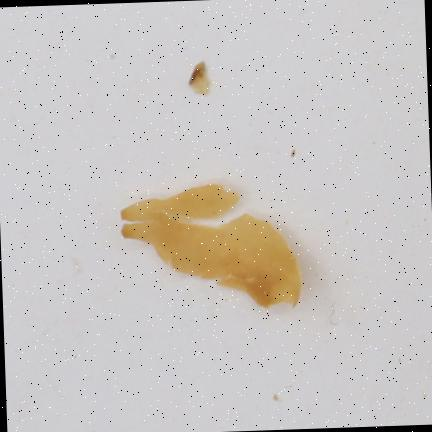parchment: (121, 184, 300, 307), (189, 62, 209, 94)
